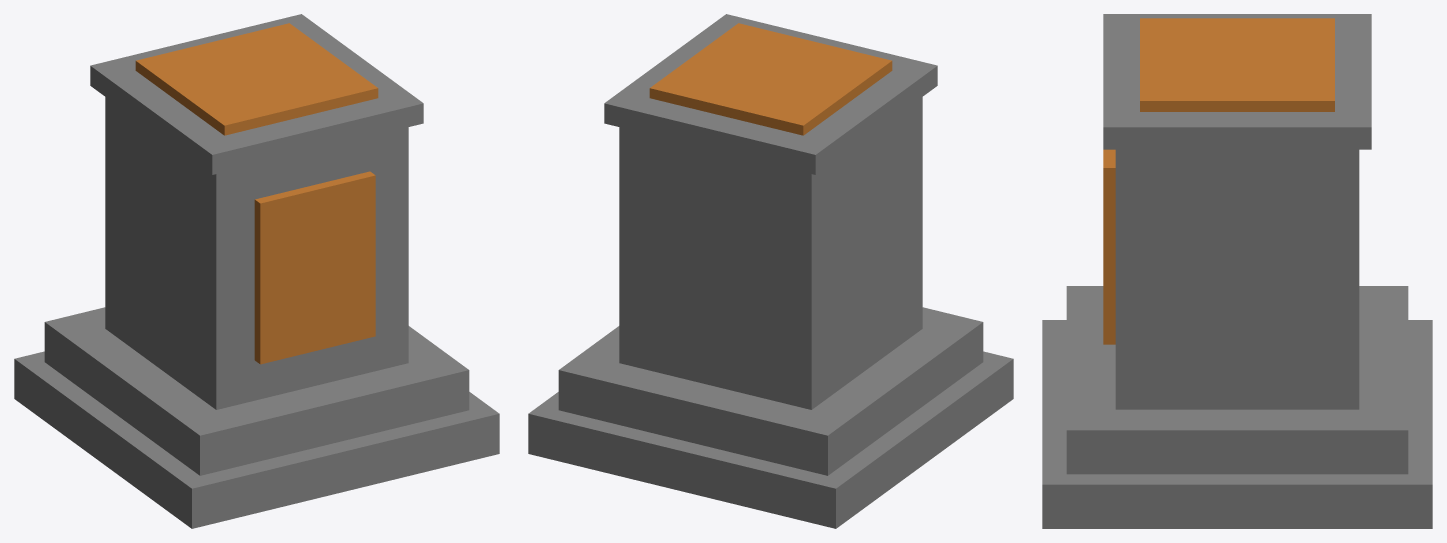
File: monumento_memorial.glb
3 views of the same model, side by side, from view 1: azimuth 30°, elevation 25°; view 2: azimuth 150°, elevation 25°; view 3: azimuth 270°, elevation 25° (orthographic). The views are drawn at different scales.
Bounding box in the file's own units: 1.6 × 1.75 × 1.6.
